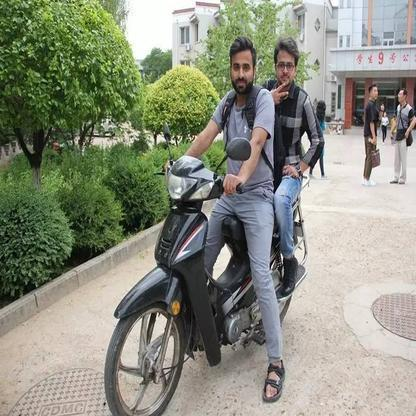target: (103, 36, 327, 413)
